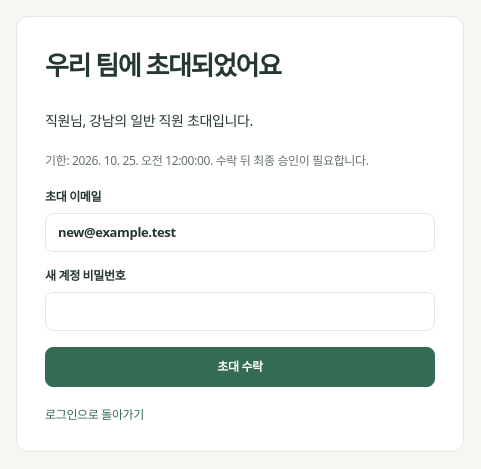
POSTs fragment token outside query keys and sends only the discriminated acceptance body
In the password field labelled "새 계정 비밀번호": [240, 312] box left=45, top=292, right=435, bottom=331, type "secure-password"
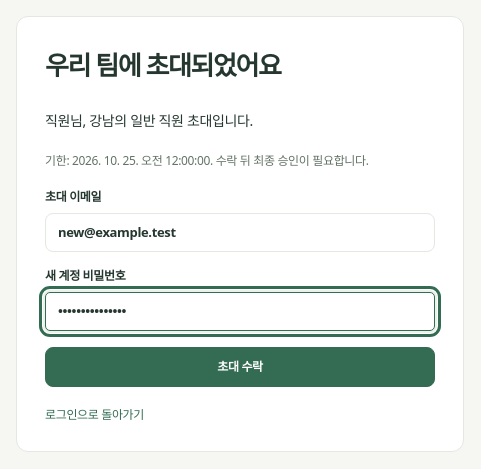
Click the button "초대 수락": [240, 367] box left=45, top=347, right=435, bottom=387
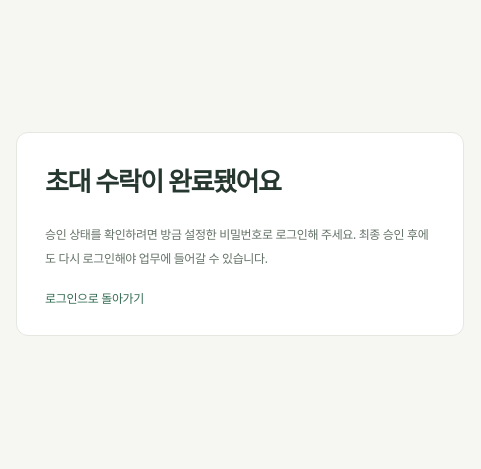
expect the heading "초대 수락이 완료됐어요" is shown: met, box left=45, top=163, right=281, bottom=199
